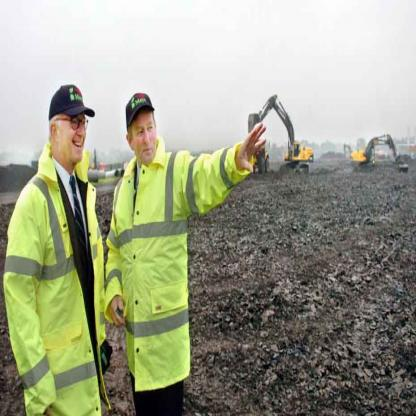excavator: (247, 92, 322, 186), (347, 128, 410, 176)
person: (106, 64, 267, 413), (4, 76, 104, 415)
